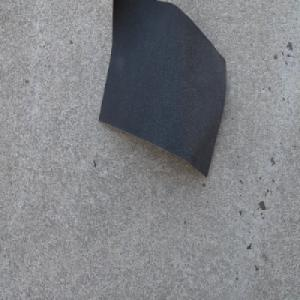PaintChip: (98, 0, 227, 178)
